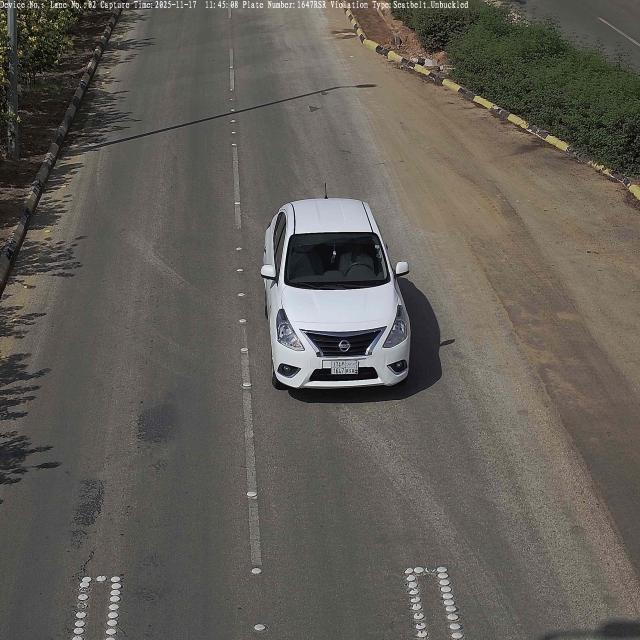person_without_seatbelt: (338, 236, 374, 275)
